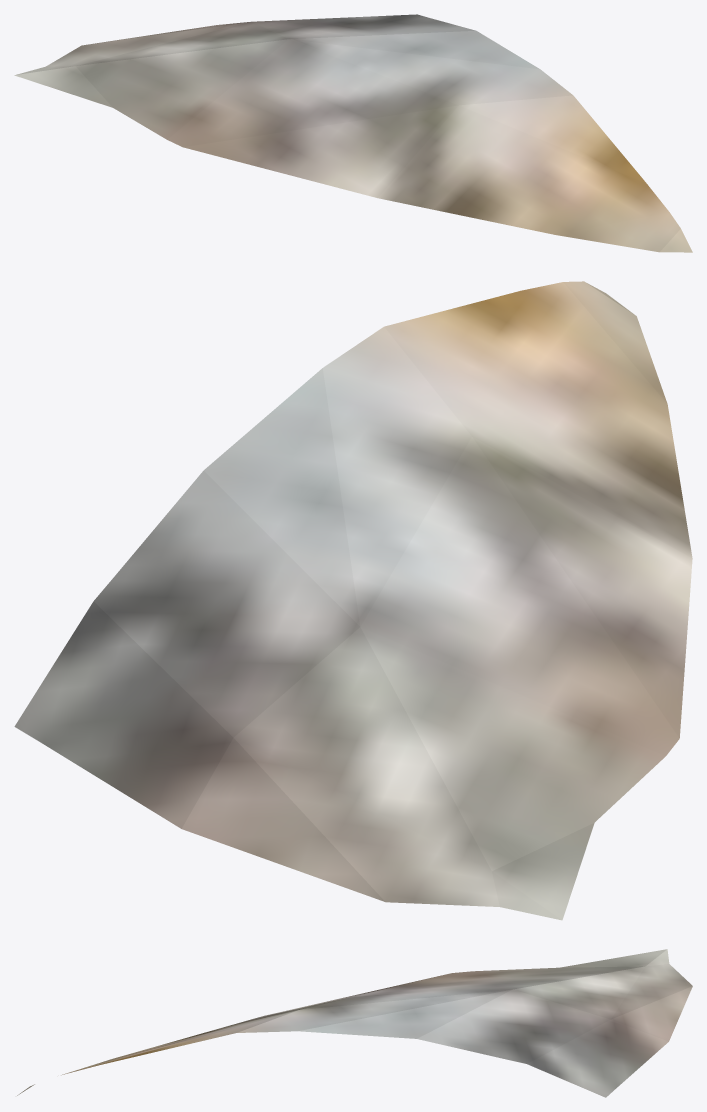
3 views of the same model, one above another, from view 1: azimuth 30°, elevation 25°; view 2: azimuth 150°, elevation 25°; view 3: azimuth 270°, elevation 25° (orthographic). The views are drawn at different scales.
Size of the model in its own units: 0.086 by 0.0179 by 0.1658.
1 material, 1 textured.
